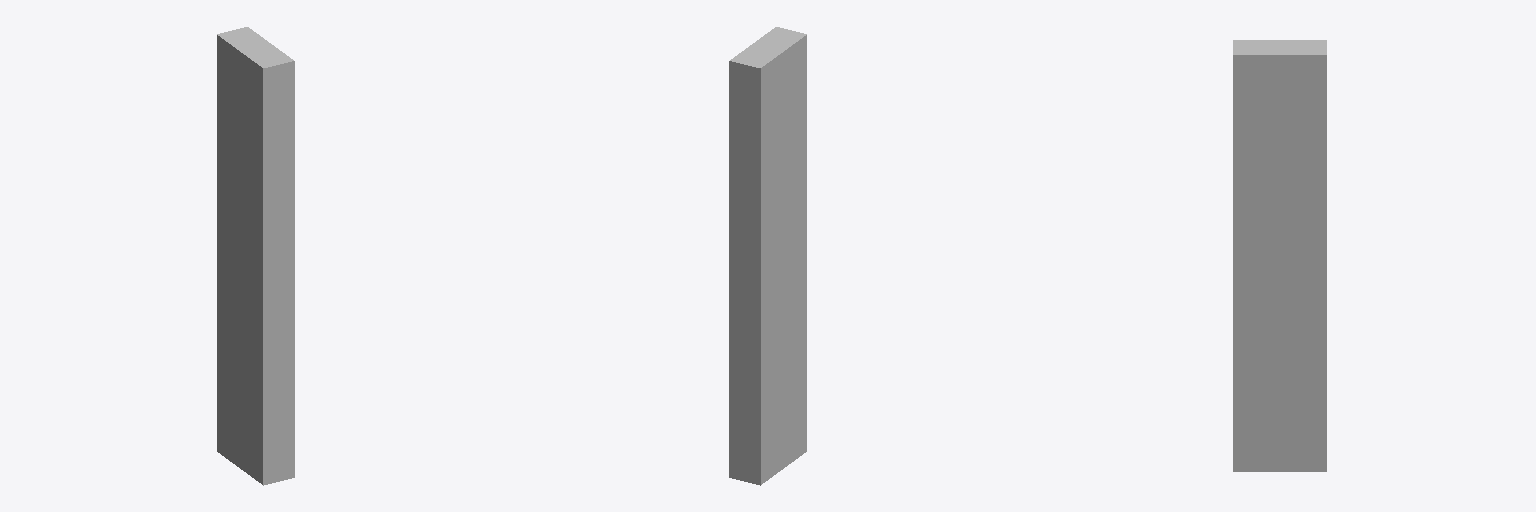
Rendered from bill2.obj.
The picture shows the model from 3 angles: view 1: azimuth 30°, elevation 25°; view 2: azimuth 150°, elevation 25°; view 3: azimuth 270°, elevation 25°; orthographic projection.
Size of the model in its own units: 14.37 by 178 by 36.3.